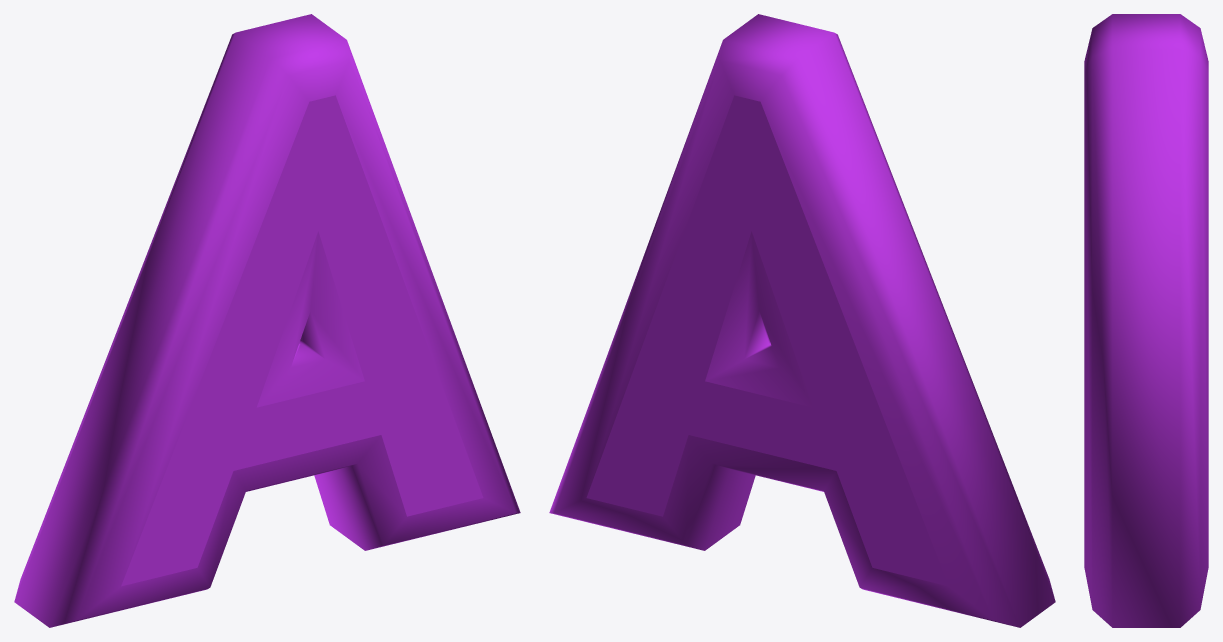
3 renders of one model, left to right at view 1: azimuth 30°, elevation 25°; view 2: azimuth 150°, elevation 25°; view 3: azimuth 270°, elevation 25°, orthographic. The views are drawn at different scales.
Visible parts, largest first — view 1: a; view 2: a; view 3: a.
Boxes of the visible parts, x1=… form: a: x1=14, y1=14, x2=520, y2=627; a: x1=549, y1=14, x2=1055, y2=627; a: x1=1084, y1=14, x2=1208, y2=627.
Bounding box in the file's own units: 0.6416 × 0.6709 × 0.1526.
